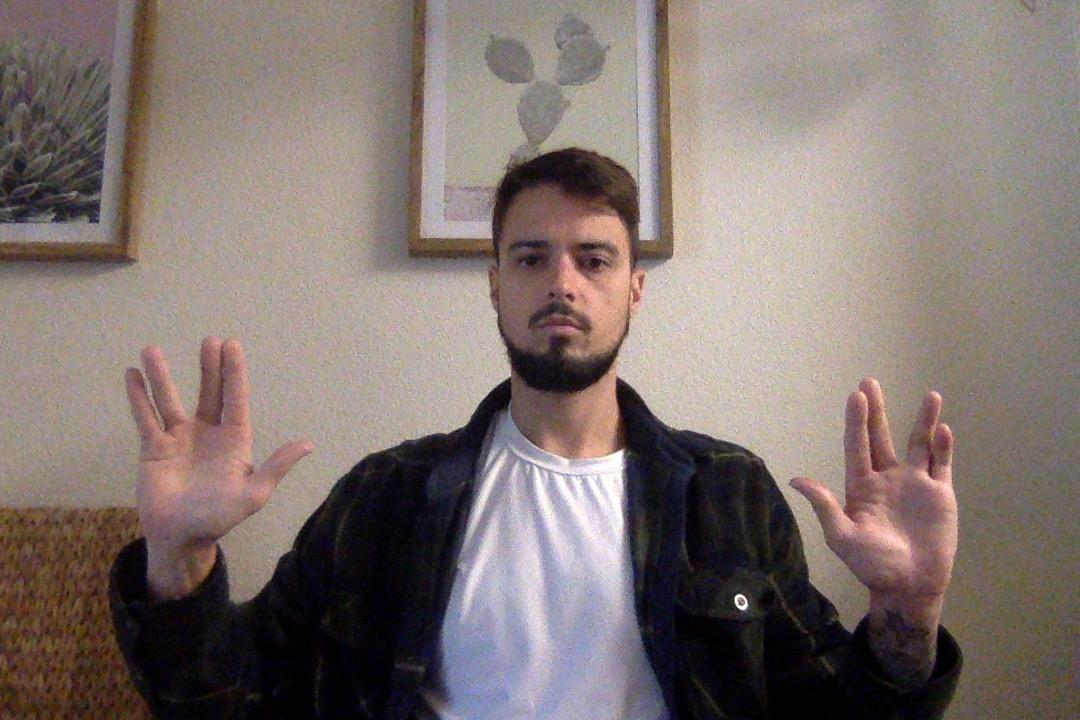Live-Long-Prosper: (117, 326, 331, 573), (780, 373, 969, 623)
